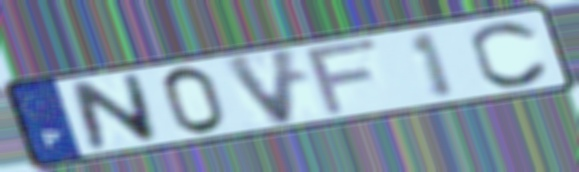0: (160, 63, 230, 137)
1: (407, 27, 456, 101)
C: (467, 19, 554, 90)
F: (302, 35, 383, 119)
N: (66, 71, 163, 153)
V: (218, 44, 303, 129)
